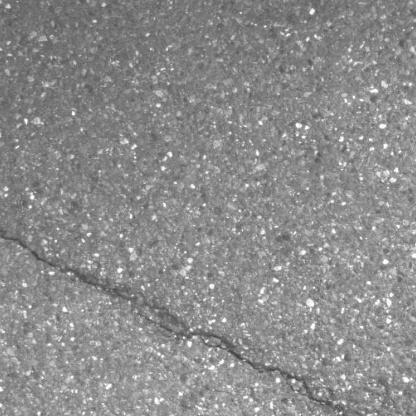Cracks: (0, 224, 407, 416)
